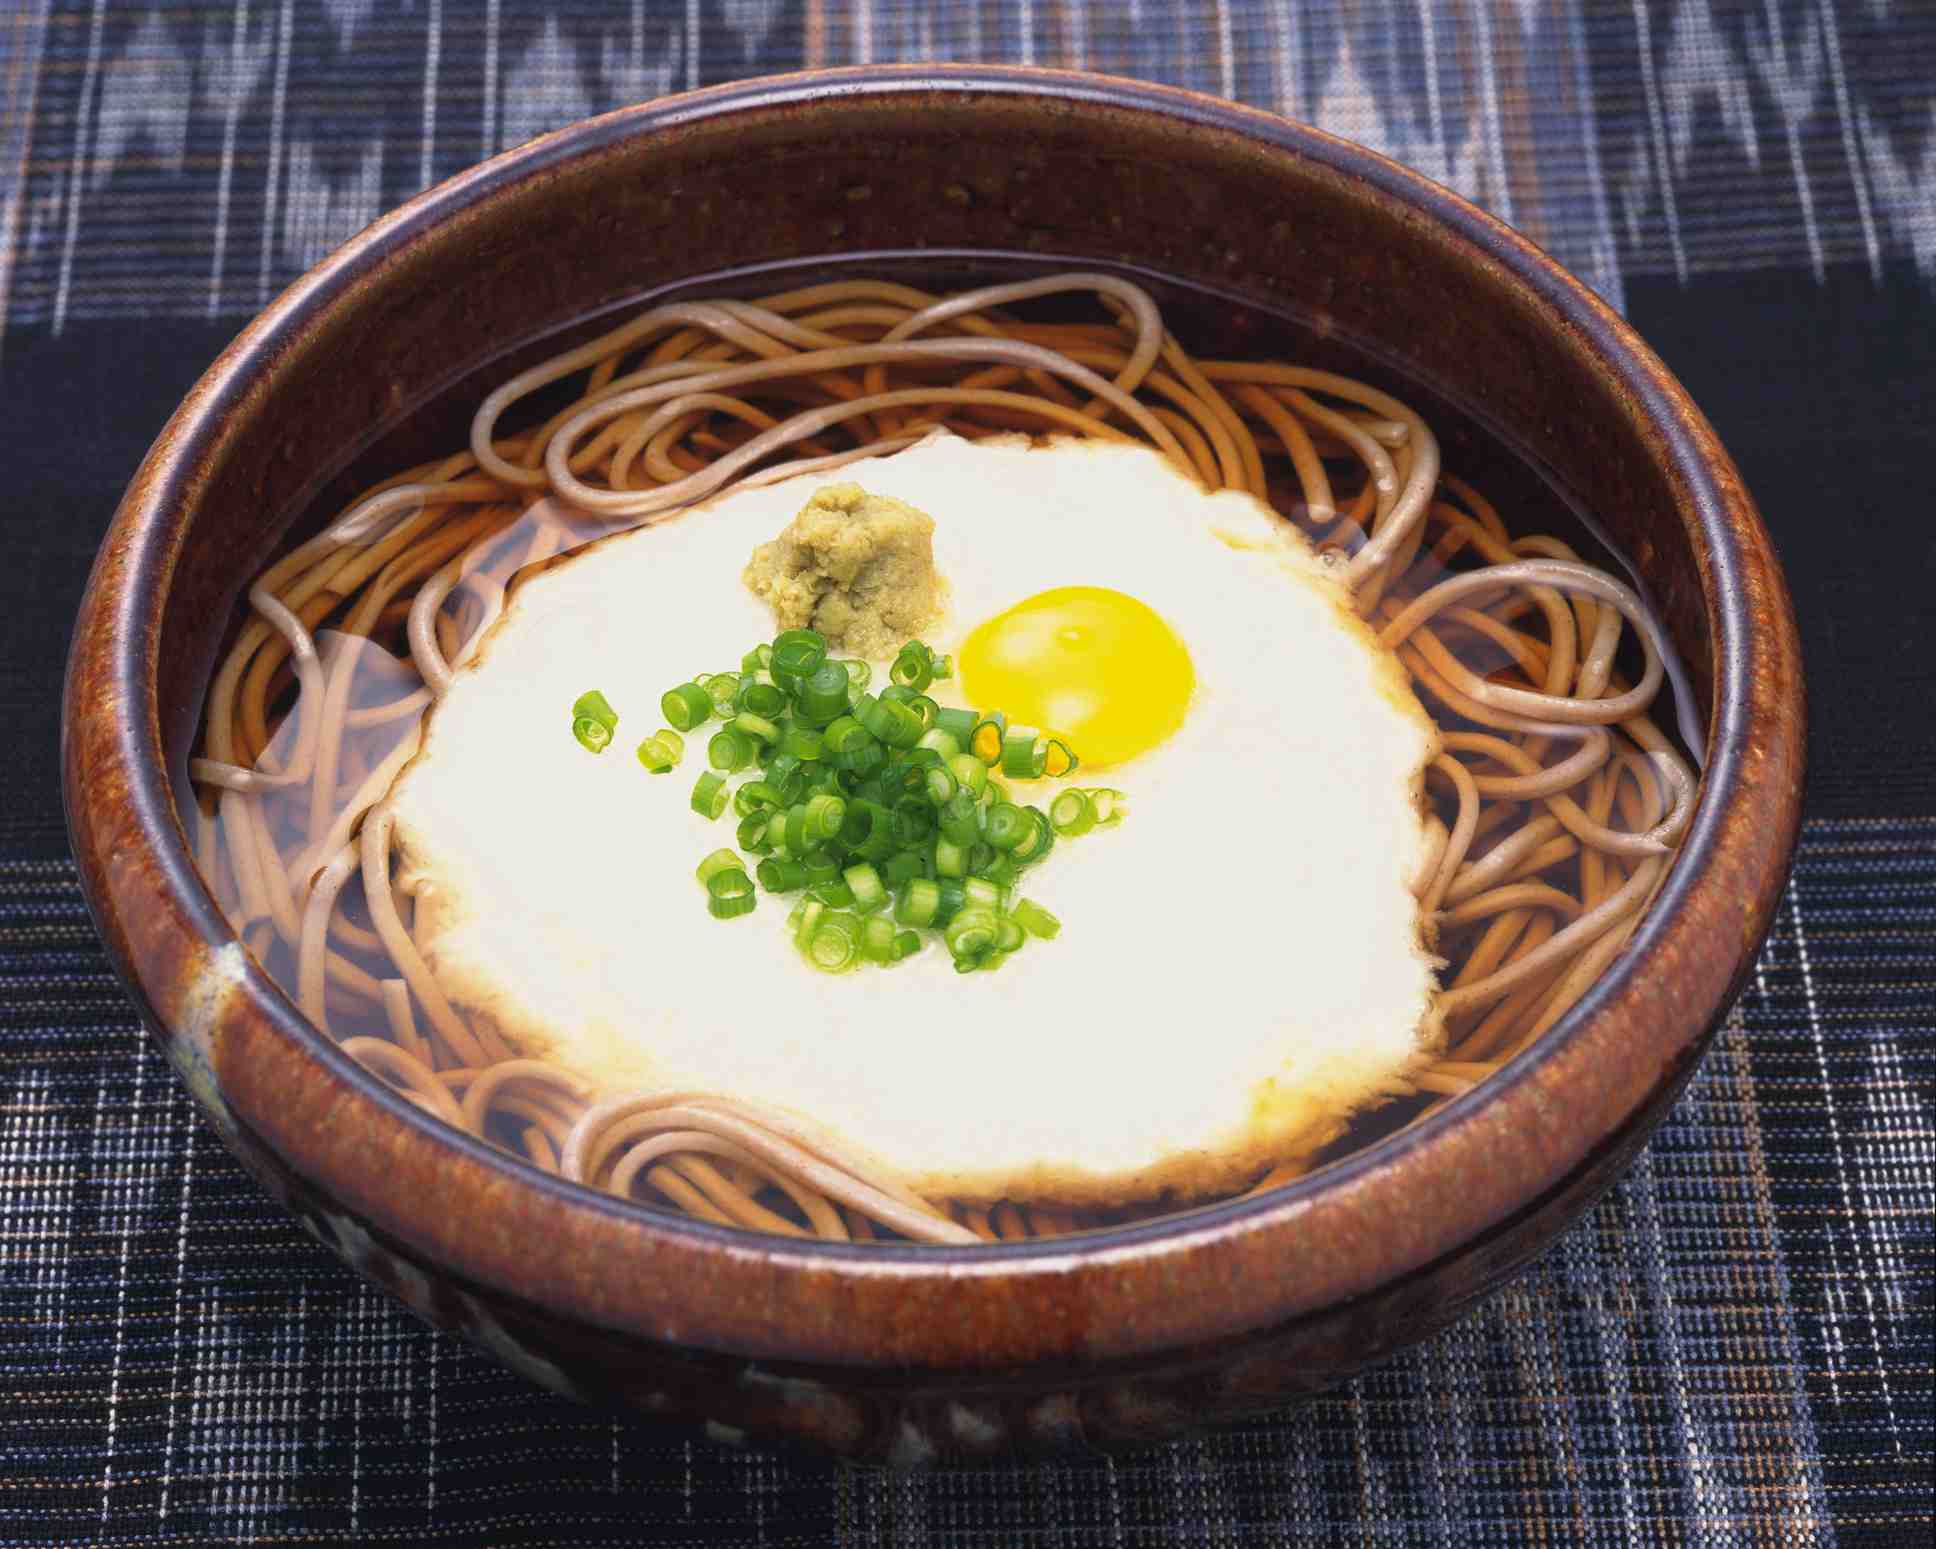Soba: (177, 289, 1719, 1234)
